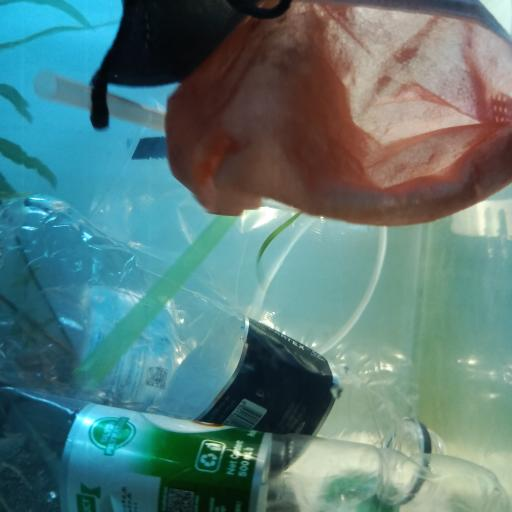bottle_cap: (129, 136, 166, 161)
mask: (167, 0, 512, 228), (89, 0, 512, 132)
plastic_bottle: (2, 193, 444, 504), (0, 384, 512, 512), (6, 288, 420, 432)
plastic_cup: (95, 99, 387, 352)
plastic_straw: (78, 212, 234, 394), (32, 68, 169, 130)
